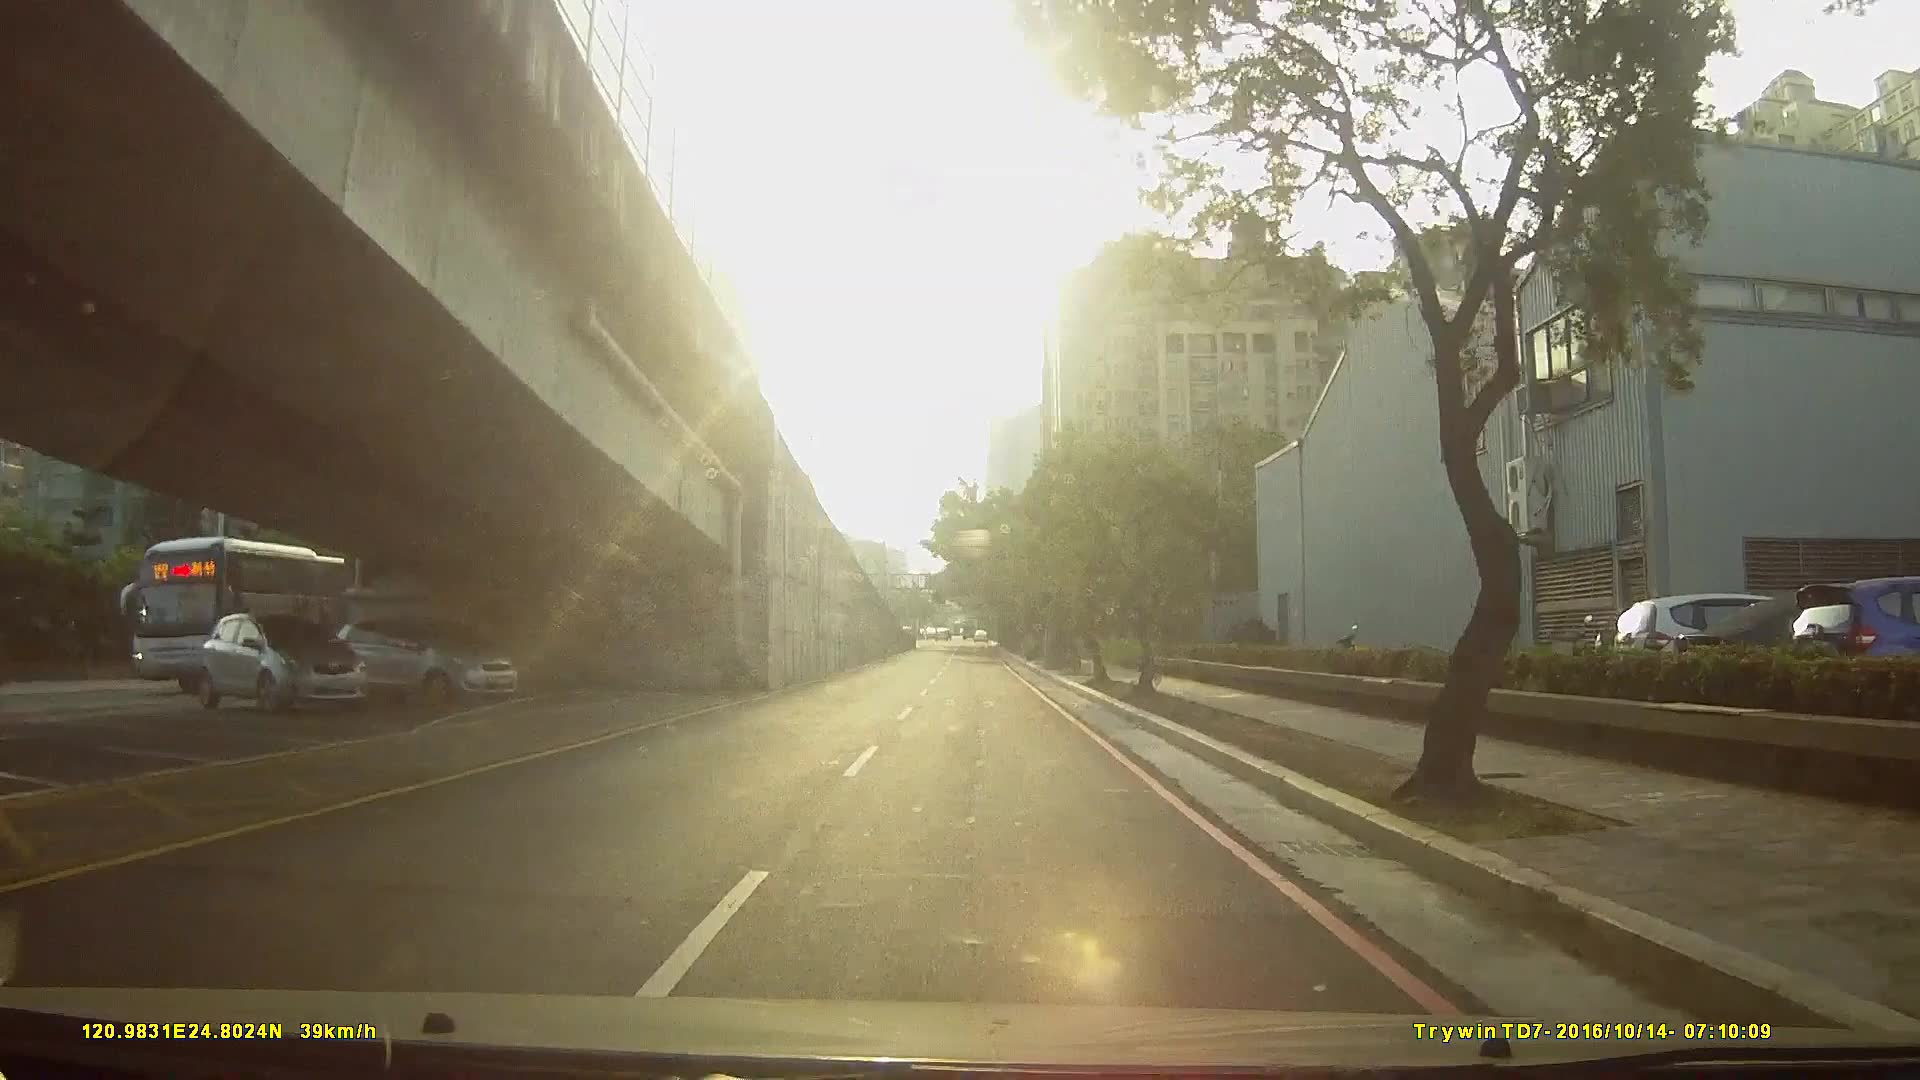vehicle: (105, 527, 394, 703), (185, 607, 357, 713), (320, 615, 512, 707)
